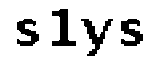1: (46, 5, 77, 49)
s: (117, 15, 144, 49), (12, 16, 39, 49)
y: (79, 15, 112, 60)
